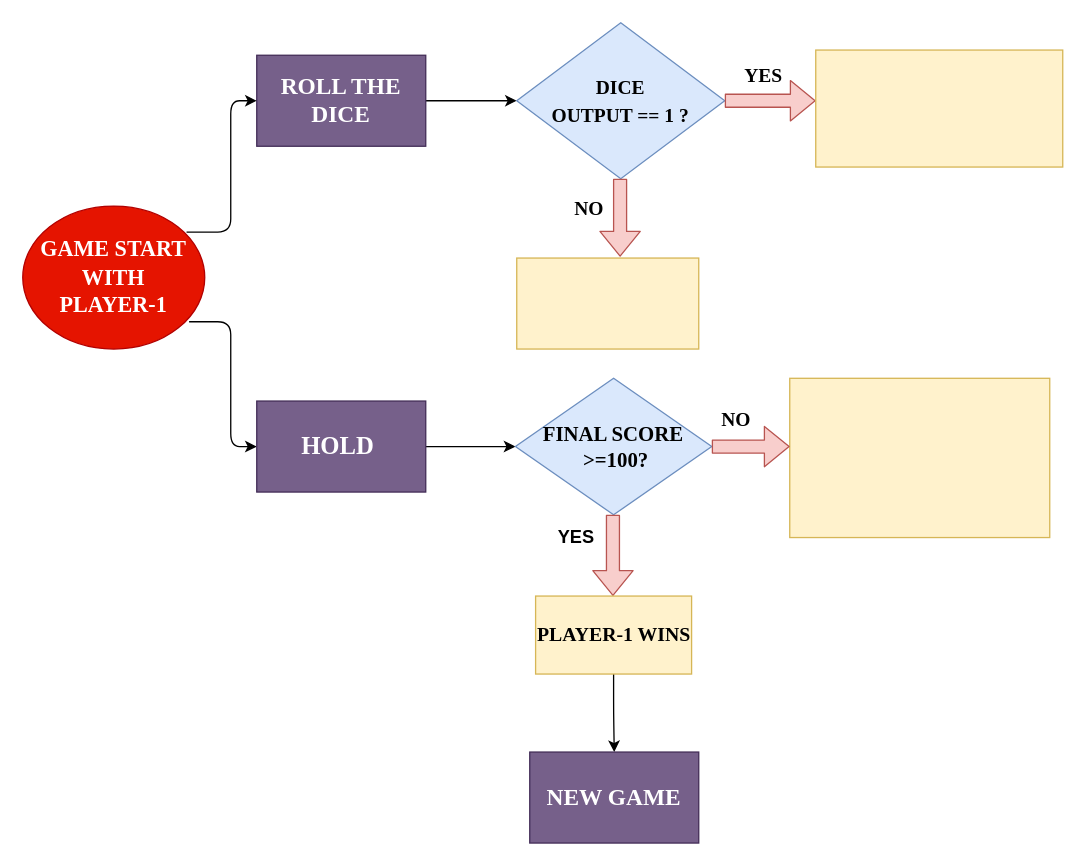
This 1086x866 diagram has some shape labels left out. The centre of each missing label's shape, as x and y in pixels:
"ALL CURRENT POINTS LOST AND IT'S PLAYER-2 TURN" goes at [938,108].
"CURRENT SCORE ADD UP TO MAIN SCORE AND PLAYER-2 TURN" goes at [919,457].
"CURRENT SCORE UPDATE" goes at [607,303].
